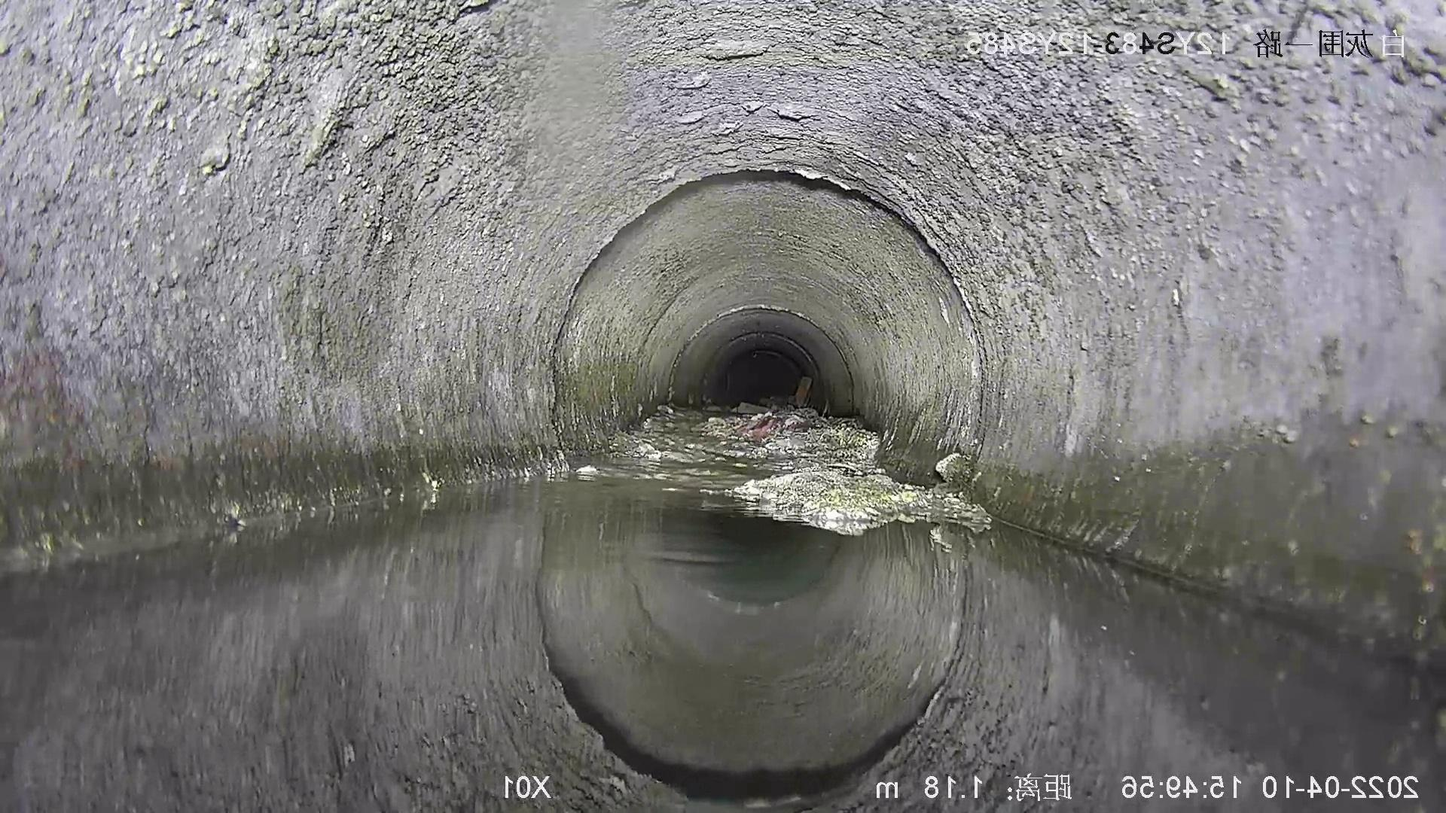CJ: (574, 378, 992, 535)
CKTJ: (545, 155, 999, 441), (664, 302, 858, 413), (698, 329, 825, 400)
